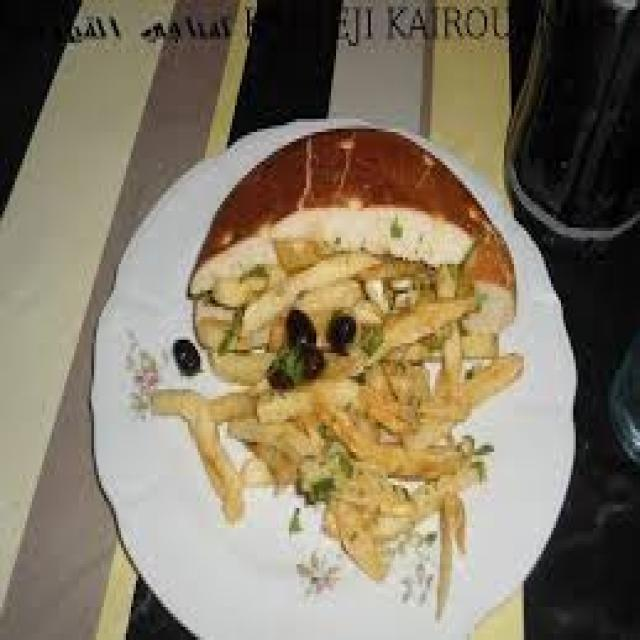Sandwitch tounsi: (197, 128, 536, 382)
